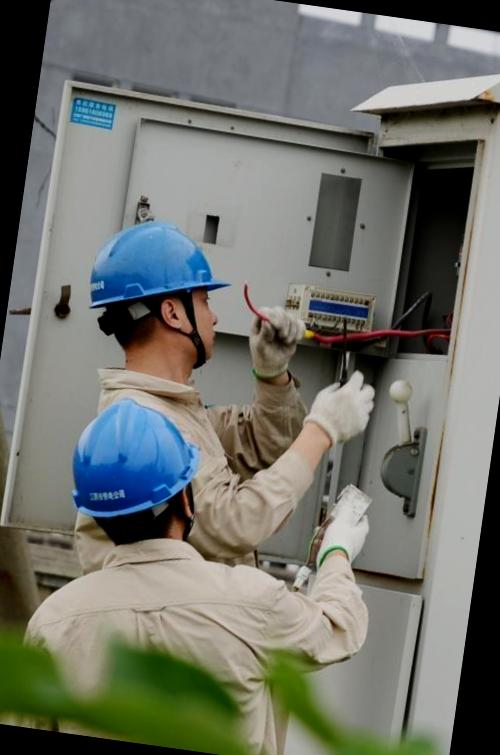helmet: (57, 385, 210, 551), (73, 205, 241, 355)
